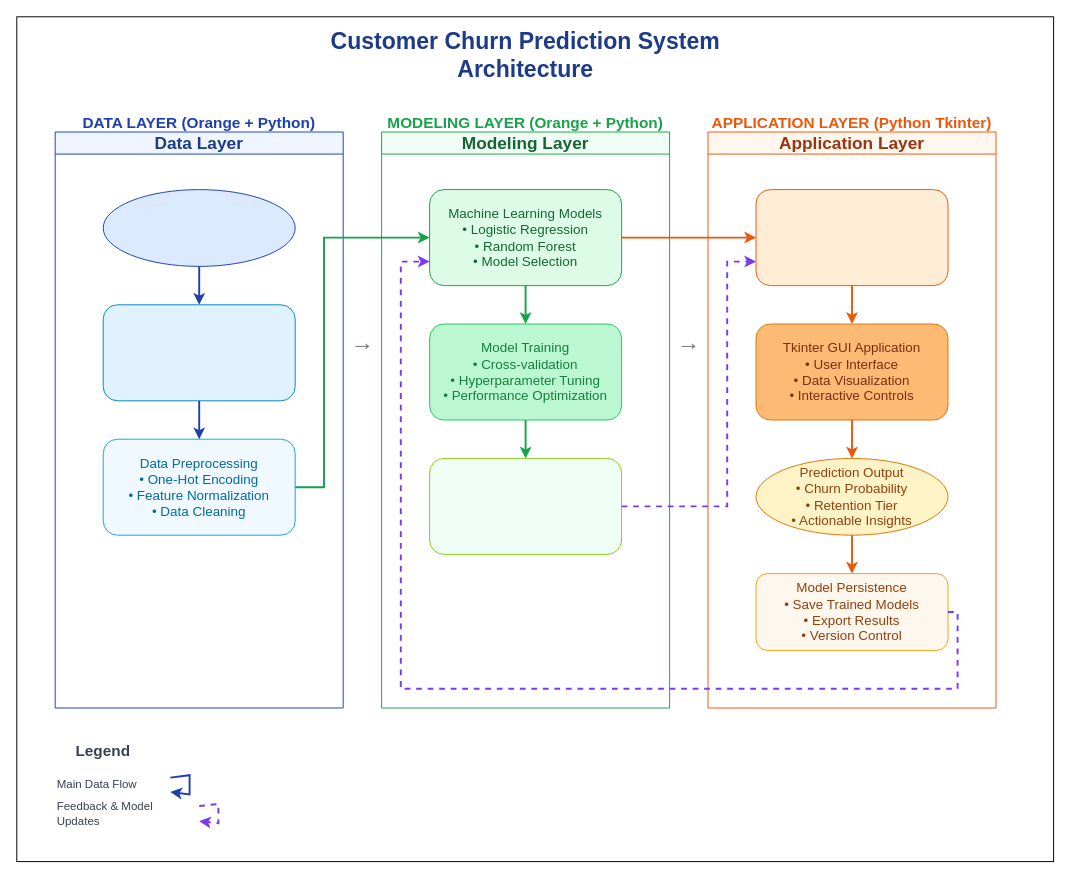
This 1070x878 diagram has some shape labels left out. The shapes that lost their labels are listed below. From the top down, each one's centre as x and y in pixels, then its label:
At pixel 198 227: "Input Data Customer Information".
At pixel 851 237: "Prediction Engine • Churn Probability • Risk Scoring • Real-time Inference".
At pixel 198 352: "CSV Data Storage • Customer records • Historical data • Feature datasets".
At pixel 525 505: "Model Evaluation • Test & Score • Performance Metrics • ROC/AUC Analysis".
